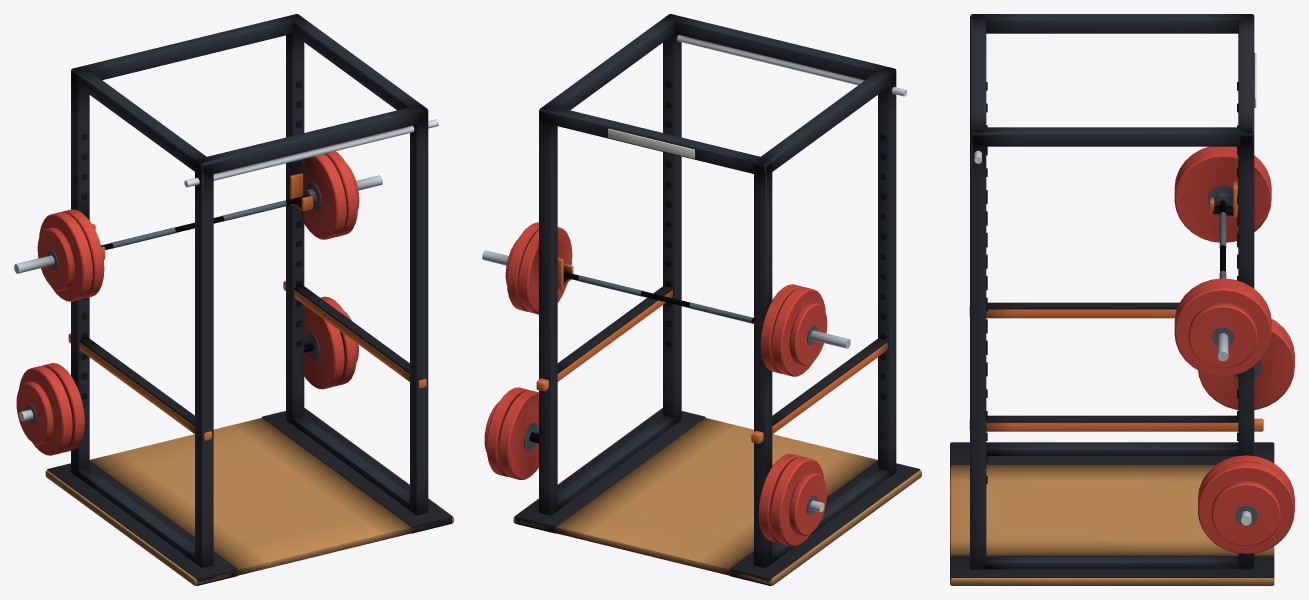
Rendered from squat_rack.glb.
3 renders of one model, left to right at view 1: azimuth 30°, elevation 25°; view 2: azimuth 150°, elevation 25°; view 3: azimuth 270°, elevation 25°, orthographic. The views are drawn at different scales.
Parts seen in each view (by area): view 1: SquatRack_Static, SquatRack_Bar; view 2: SquatRack_Static, SquatRack_Bar; view 3: SquatRack_Static, SquatRack_Bar.
Boxes of the visible parts, x1,y1,x2,y2 form: SquatRack_Static: (16,14,453,585); SquatRack_Bar: (14,151,382,301); SquatRack_Static: (484,14,921,585); SquatRack_Bar: (482,222,850,376); SquatRack_Static: (950,14,1294,585); SquatRack_Bar: (1174,146,1271,376).
Bounding box in the file's own units: 2.1 × 2.29 × 1.59.
